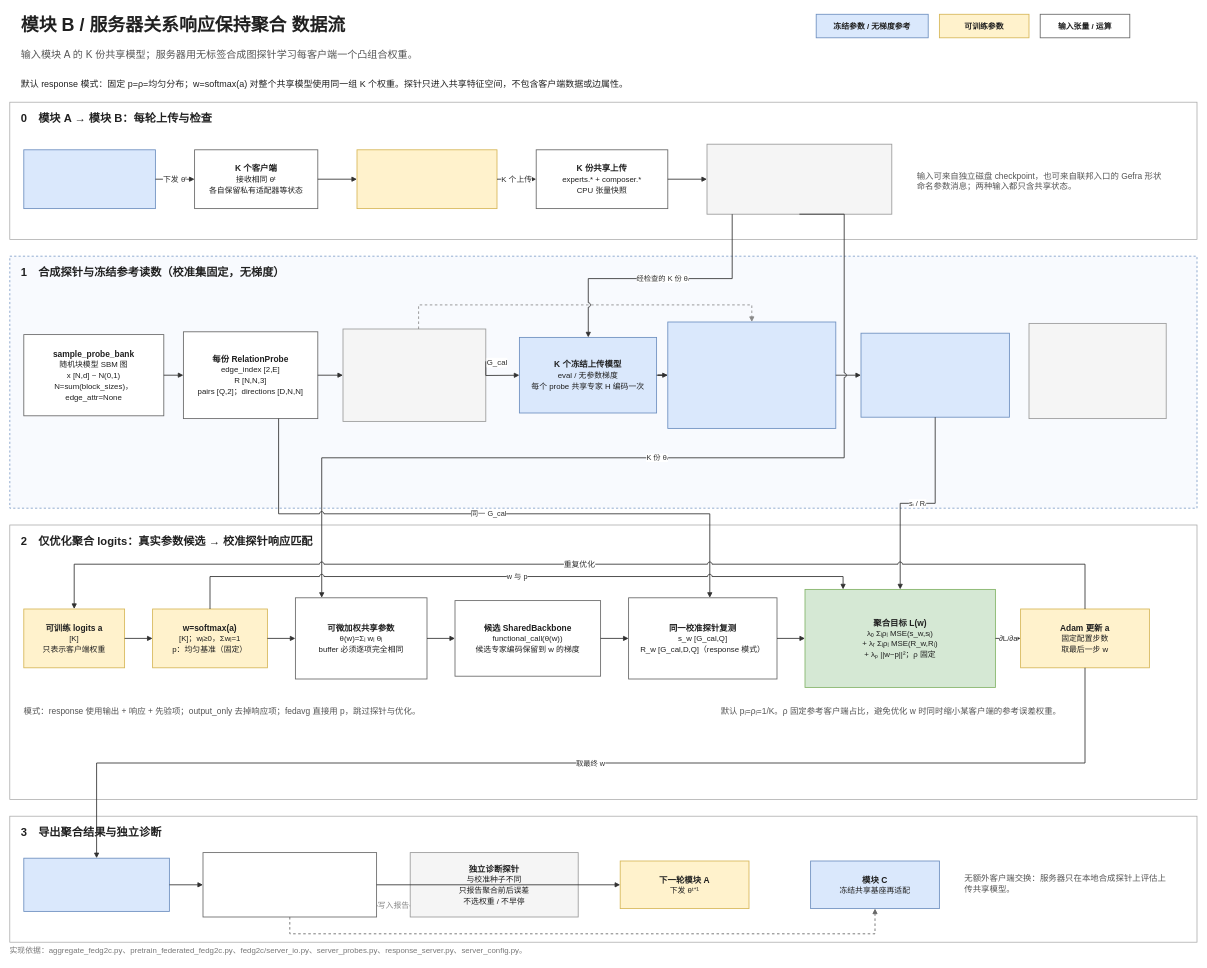
This 1207x968 diagram has some shape labels left out. Here are the shapes that lost their labels. From the top down, the centre of each, then its label:
At point 89,179: "本轮全局共享状态 θᵗ experts.* + composer.*".
At point 426,179: "模块 A 本地训练 各客户端用私有图更新 不上传数据与私有状态".
At point 799,179: "校验后进入聚合 键 / 形状 / dtype / 有限值 协议 / 关系模式 / 轮次 / 初始化".
At point 414,375: "两组独立随机种子 校准探针 G_cal：用于优化 诊断探针 G_diag：仅报告前后差异".
At point 751,375: "ProbeEvaluator（参考） g=1：基准输出 sᵢ [Q] g=1±εΔ：中心差分响应 Rᵢ [D,Q] s：固定节点对余弦相似度".
At point 935,375: "缓存固定参考读数 sᵢ [K,G_cal,Q] Rᵢ [K,G_cal,D,Q] 不随服务器权重更新".
At point 1097,371: "关系干预 同一图、同一 H、同一 pairs 只缩放组合器关系门控 不是改边 / 链接预测标签".
At point 96,885: "最终共享状态 θᵗ⁺¹ 用最后一步 w 混合全量共享参数".
At point 289,884: "保存服务器产物 shared_backbone.pt aggregation_report.json server_probes.pt（校准 / 诊断）".
